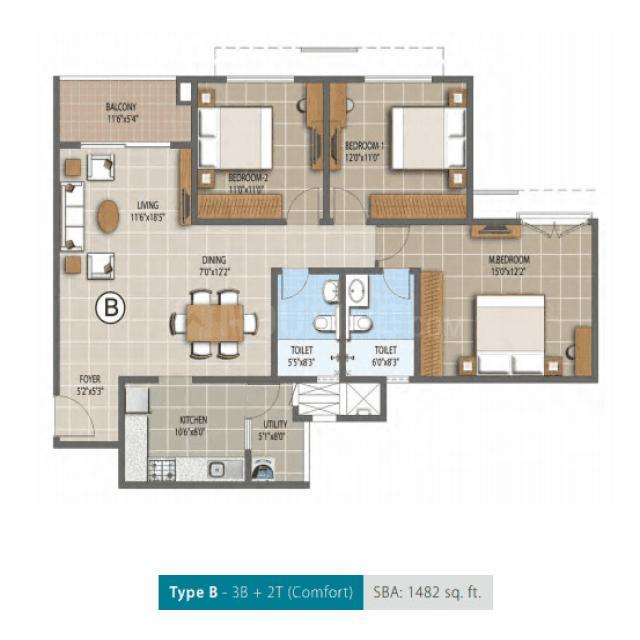Balcony-Sitout: (54, 75, 196, 149)
Bedroom: (322, 77, 473, 226), (192, 78, 329, 227)
Bedroom with Toilet: (340, 218, 597, 382)
Dining: (166, 284, 262, 369)
Enterance-Foyer: (54, 384, 124, 449)
Kitchen: (119, 377, 251, 490)
Living: (52, 141, 197, 283)
Toilet: (340, 268, 421, 383), (271, 267, 346, 382)
Utility: (246, 377, 309, 488)
